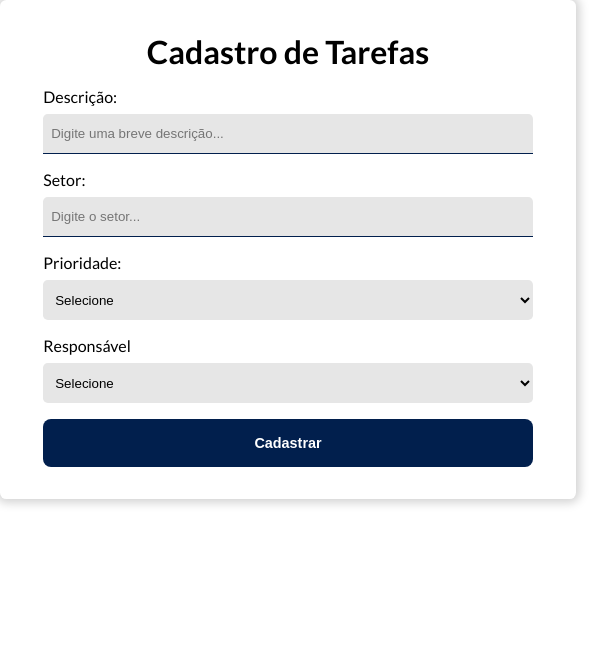
Cadastro de tarefas › Exibe mensagem de erro quando os selects não são selecionados
This screenshot has width=600, height=646.
Type "Descrição da tarefa" into the field labelled "Descrição:".
click(288, 134); type("Descrição da tarefa")  # box [43, 114, 533, 154]
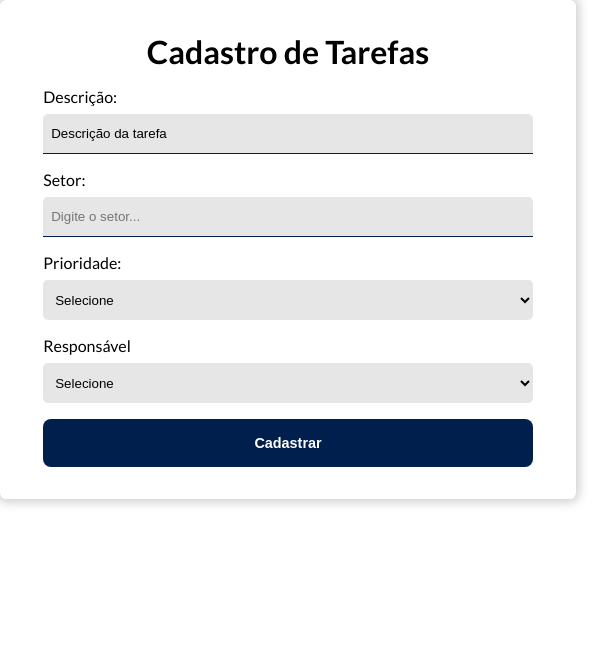
Type "Setor de TI" into the field labelled "Setor:".
click(288, 217); type("Setor de TI")  # box [43, 197, 533, 237]
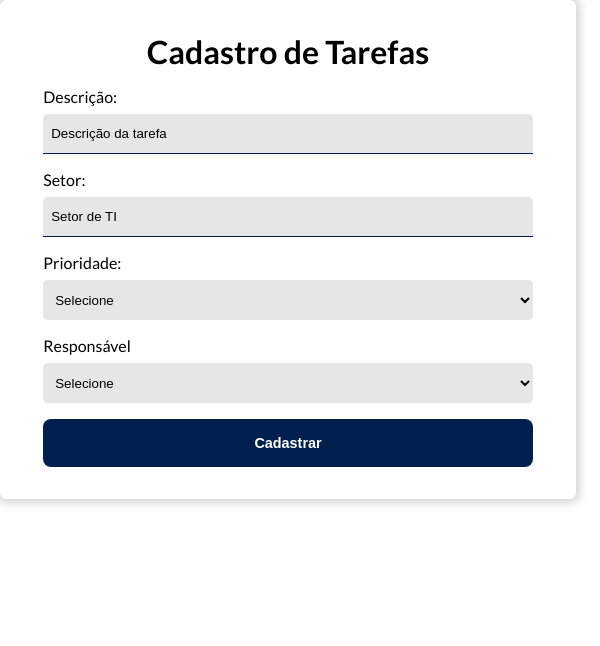
Click the button "Cadastrar".
click(288, 443)  # box [43, 419, 533, 467]
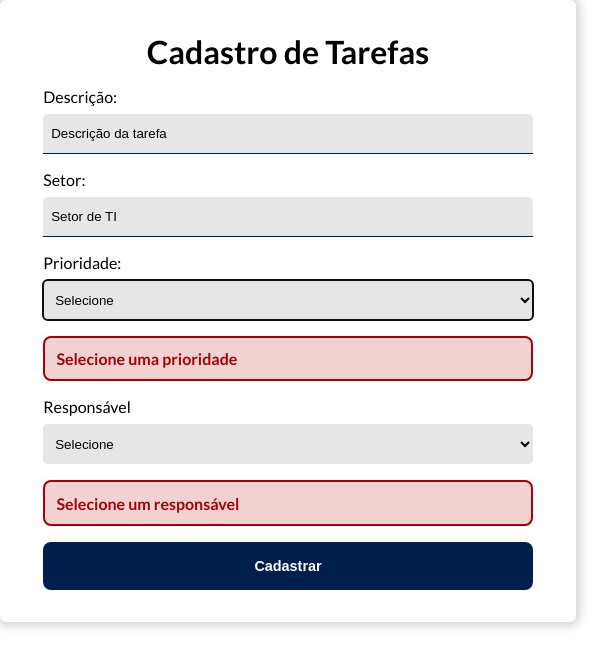
Expected: the text "Selecione uma prioridade" is shown, [43, 336, 533, 381]
Expected: the text "Selecione um responsável" is shown, [43, 480, 533, 526]
